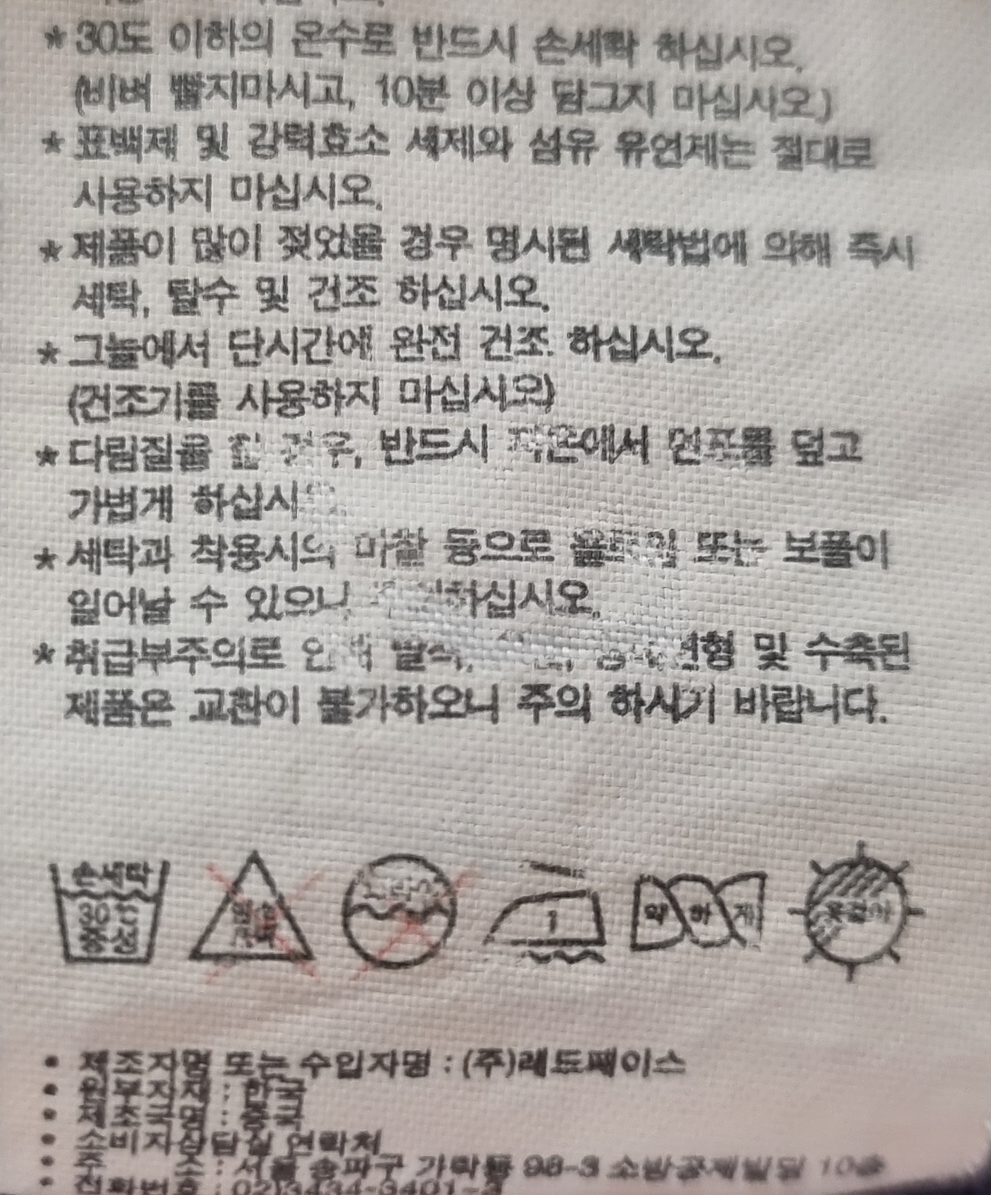KR_gentle_wring: (617, 853, 779, 972)
KR_hand_wash_30_neutral: (42, 839, 176, 978)
KR_hang_dry_in_shade: (790, 844, 921, 988)
KR_no_chlorine_bleach: (187, 841, 323, 988)
KR_no_dry_clean: (339, 839, 473, 986)
